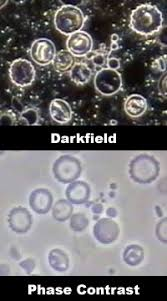Malaria: (125, 4, 166, 35), (55, 5, 82, 33), (95, 68, 122, 96), (9, 60, 36, 87), (48, 96, 72, 121), (124, 92, 148, 117), (31, 40, 54, 64), (67, 34, 91, 55), (71, 62, 90, 85), (56, 51, 74, 72)
